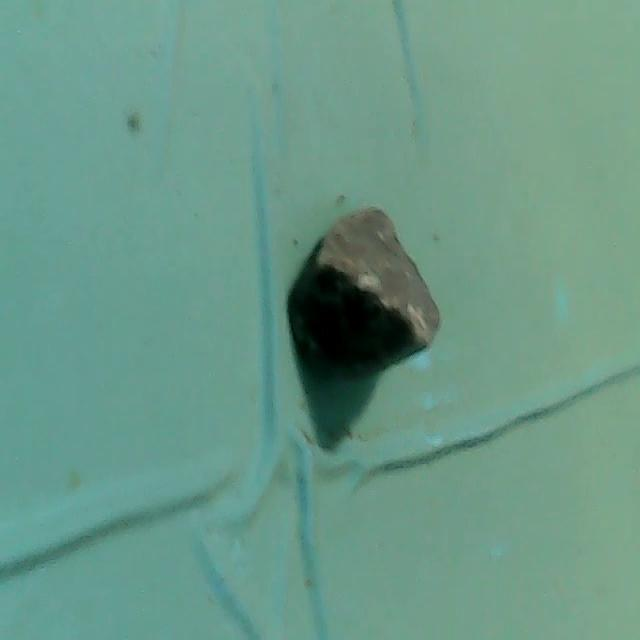rock: (277, 190, 457, 372)
